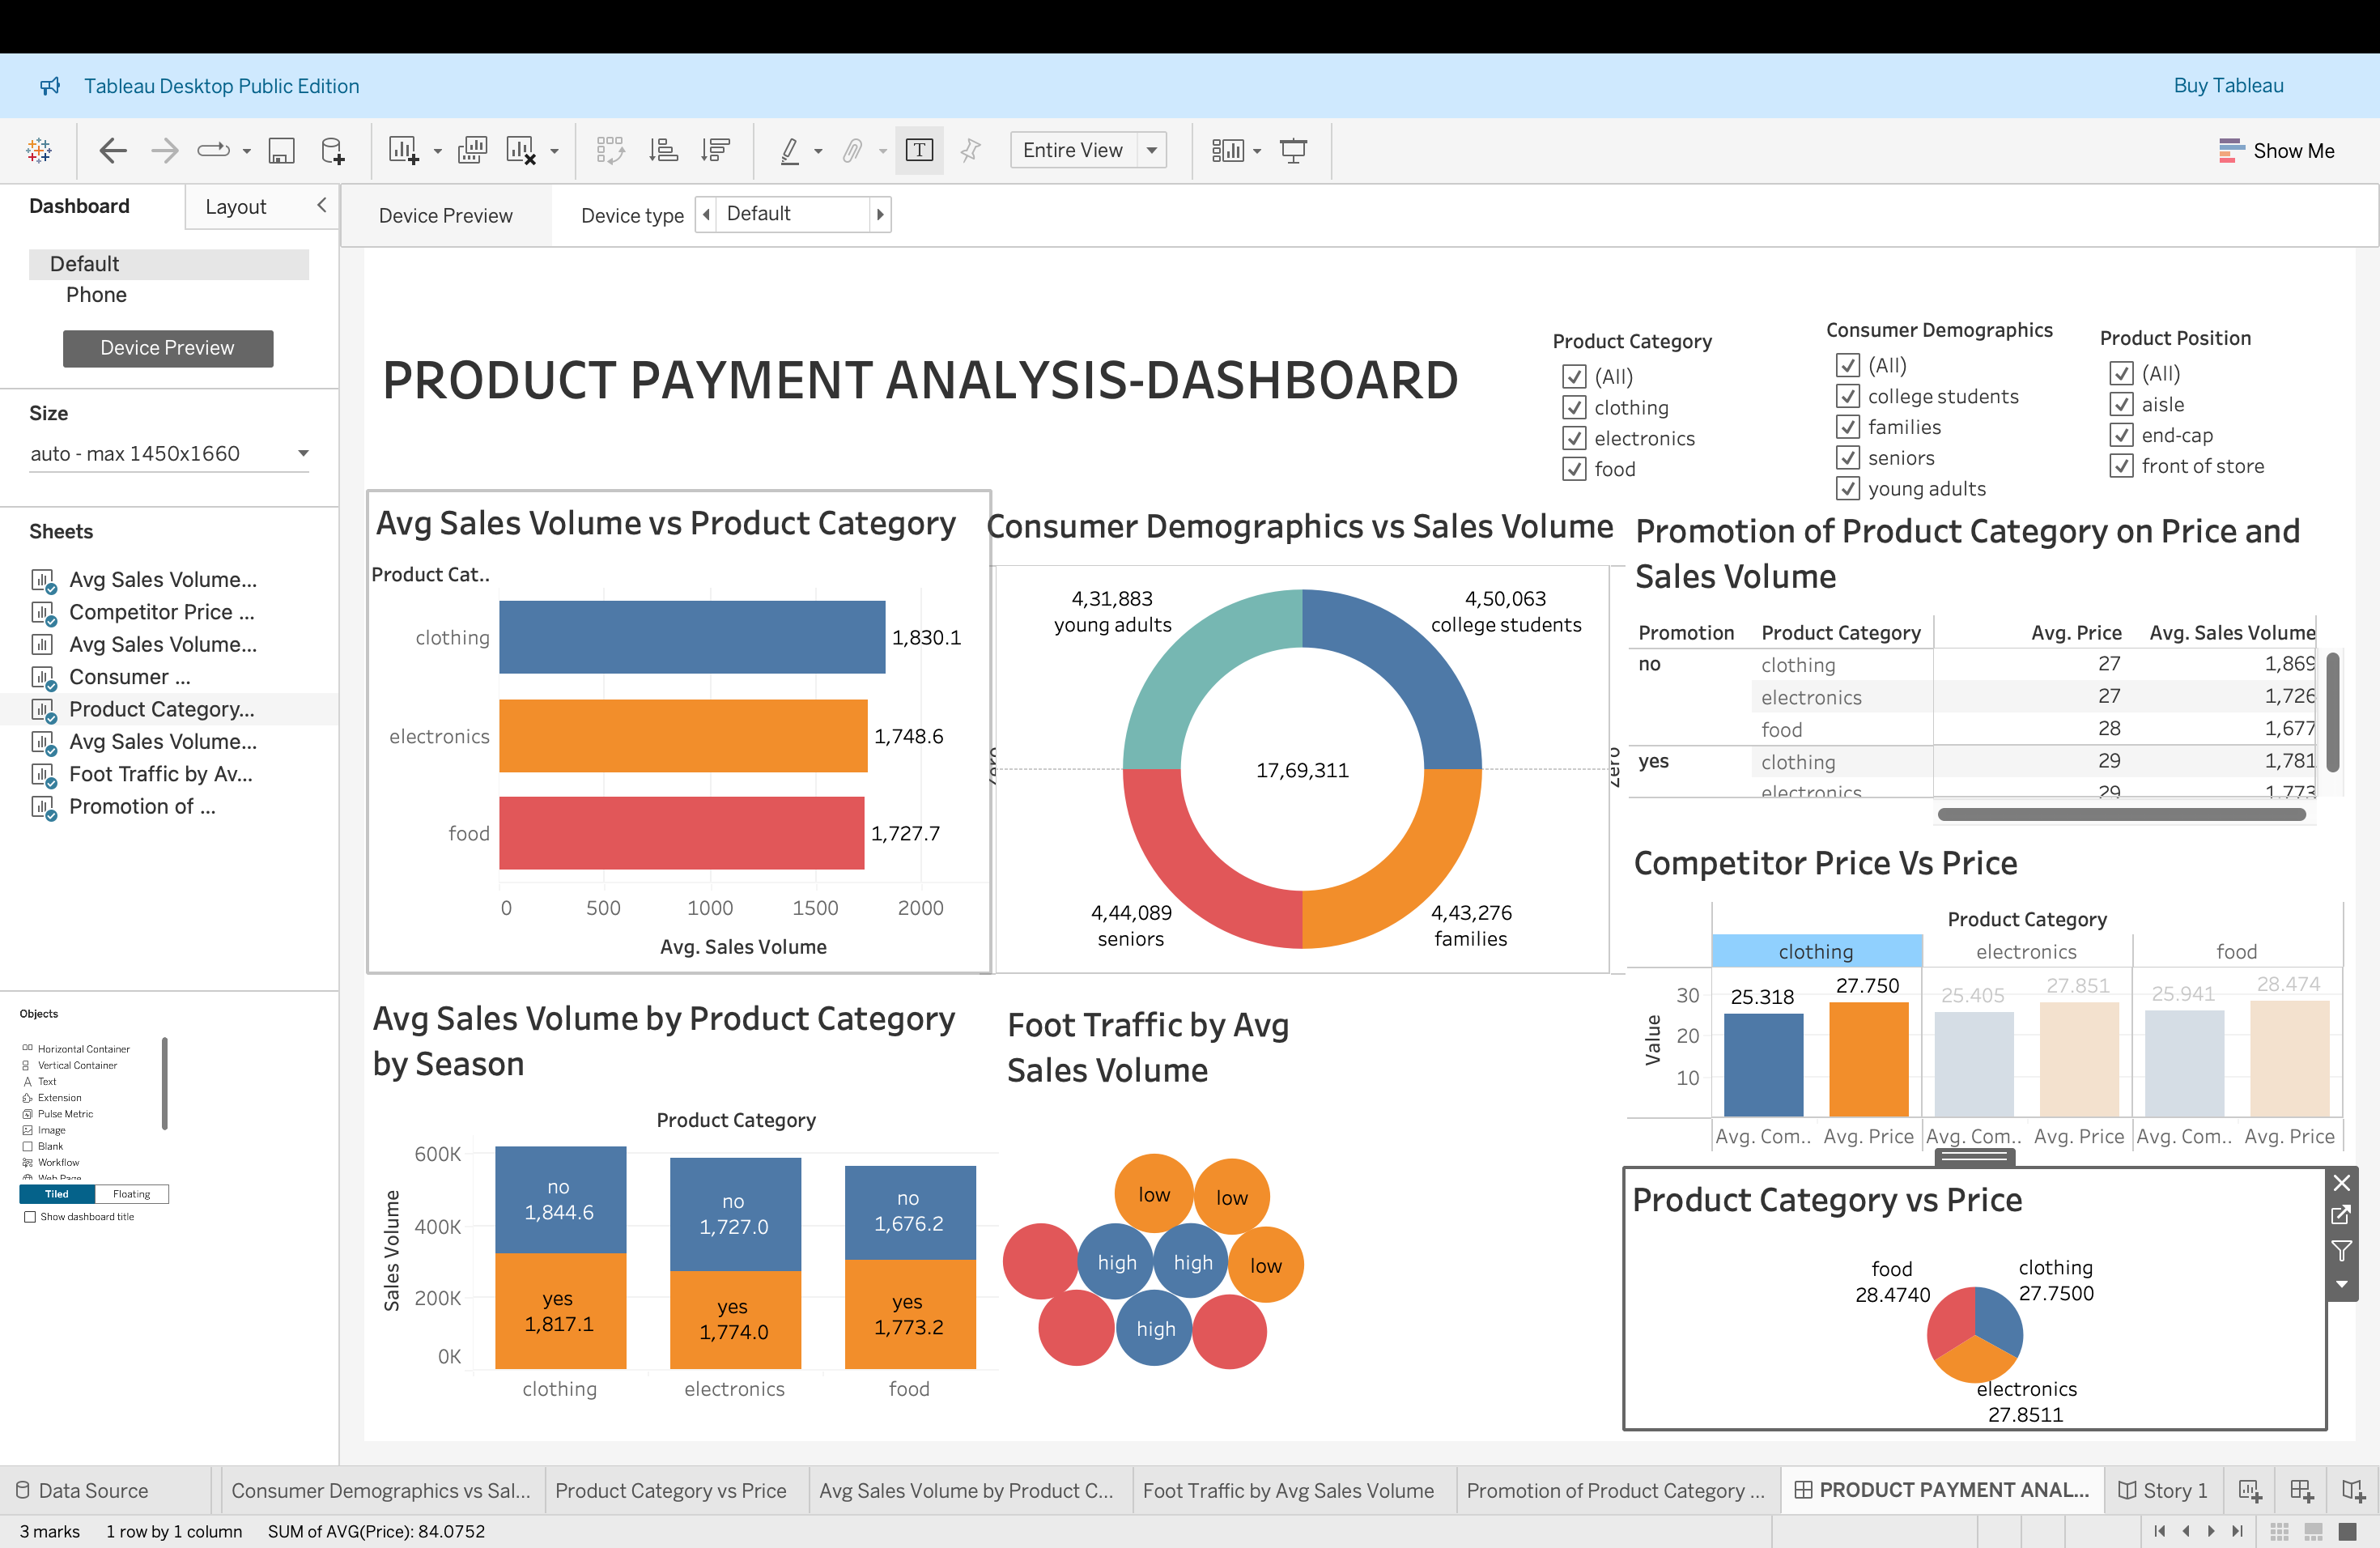

What the dashboard file says about the page in this screenshot:
{"tool":"tableau","page":{"name":"PRODUCT PAYMENT ANALYSIS-DASHBOARD","canvas":[1000,1000],"units":"permille","ordinal":0},"visuals":[{"type":"title","box":[6.4,49.5,622.4,116]},{"type":"filter","title":"Sheet 4","param":"[federated.0ylqd1p116krjb10mgwns03wmc6g].[none:consumer_demographics:nk]","box":[734.4,56.8,128,162.6]},{"type":"filter","title":"Sheet 7","param":"[federated.0ylqd1p116krjb10mgwns03wmc6g].[none:product_position:nk]","box":[871.2,63.2,128,129]},{"type":"filter","title":"Sheet 6","param":"[federated.0ylqd1p116krjb10mgwns03wmc6g].[none:product_category:nk]","box":[596.8,65.8,128,135.5]},{"type":"worksheet","title":"Sheet 4","mark":"Pie","rows":["Calculation_1893061390778370","Calculation_1893061390778370"],"box":[308.8,207.3,325.6,397.7]},{"type":"worksheet","title":"Sheet 8","mark":"Automatic","rows":["promotion","product_category"],"box":[635.2,211.3,359.2,273.2]},{"type":"worksheet","title":"Sheet 1","mark":"Automatic","rows":["product_category"],"cols":["sales_volume"],"box":[2.4,222.9,300.8,380.2]},{"type":"worksheet","title":"Sheet 2","mark":"Automatic","cols":["product_category"],"box":[634.4,489.7,360,268]},{"type":"worksheet","title":"Sheet 6","mark":"Automatic","rows":["sales_volume"],"cols":["product_category"],"box":[0.8,620.6,317.6,348.1]},{"type":"worksheet","title":"Sheet 7","mark":"Circle","box":[319.2,625,318.4,351.8]},{"type":"worksheet","title":"Sheet 5","mark":"Pie","box":[633.6,771.9,351.2,220.4]}]}

Visuals, with their boxes on the dashboard's canvas, which has no fixed pixel size, in thousandths of its width and height (x1, y1, x2, y2). These are canvas units, not pixel positions in the 2380x1548 screenshot, which may show the page scaled, cropped or inside an application window:
title: locate(6, 50, 629, 166)
"Sheet 4" filter: locate(734, 57, 862, 219)
"Sheet 7" filter: locate(871, 63, 999, 192)
"Sheet 6" filter: locate(597, 66, 725, 201)
"Sheet 4" worksheet (Pie marks): locate(309, 207, 634, 605)
"Sheet 8" worksheet: locate(635, 211, 994, 484)
"Sheet 1" worksheet: locate(2, 223, 303, 603)
"Sheet 2" worksheet: locate(634, 490, 994, 758)
"Sheet 6" worksheet: locate(1, 621, 318, 969)
"Sheet 7" worksheet (Circle marks): locate(319, 625, 638, 977)
"Sheet 5" worksheet (Pie marks): locate(634, 772, 985, 992)
